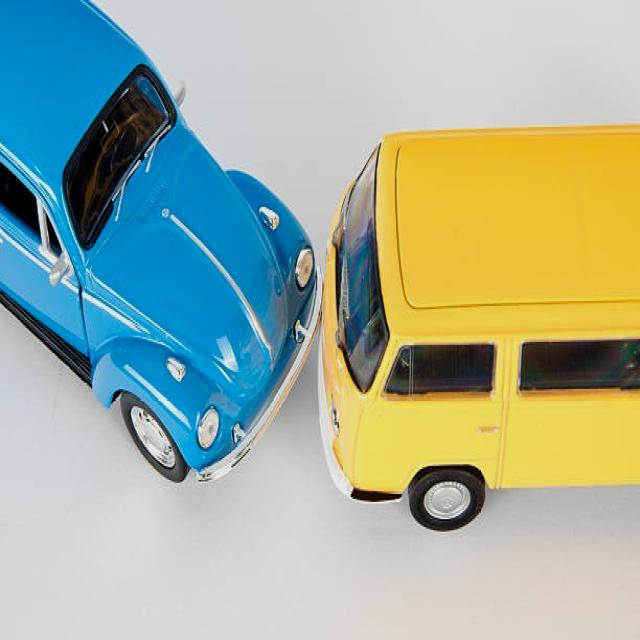car: (1, 1, 320, 478), (318, 133, 640, 530)
